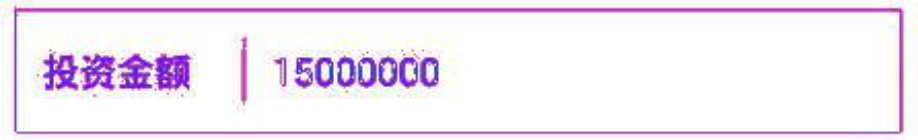EditText: (1, 1, 917, 139)
